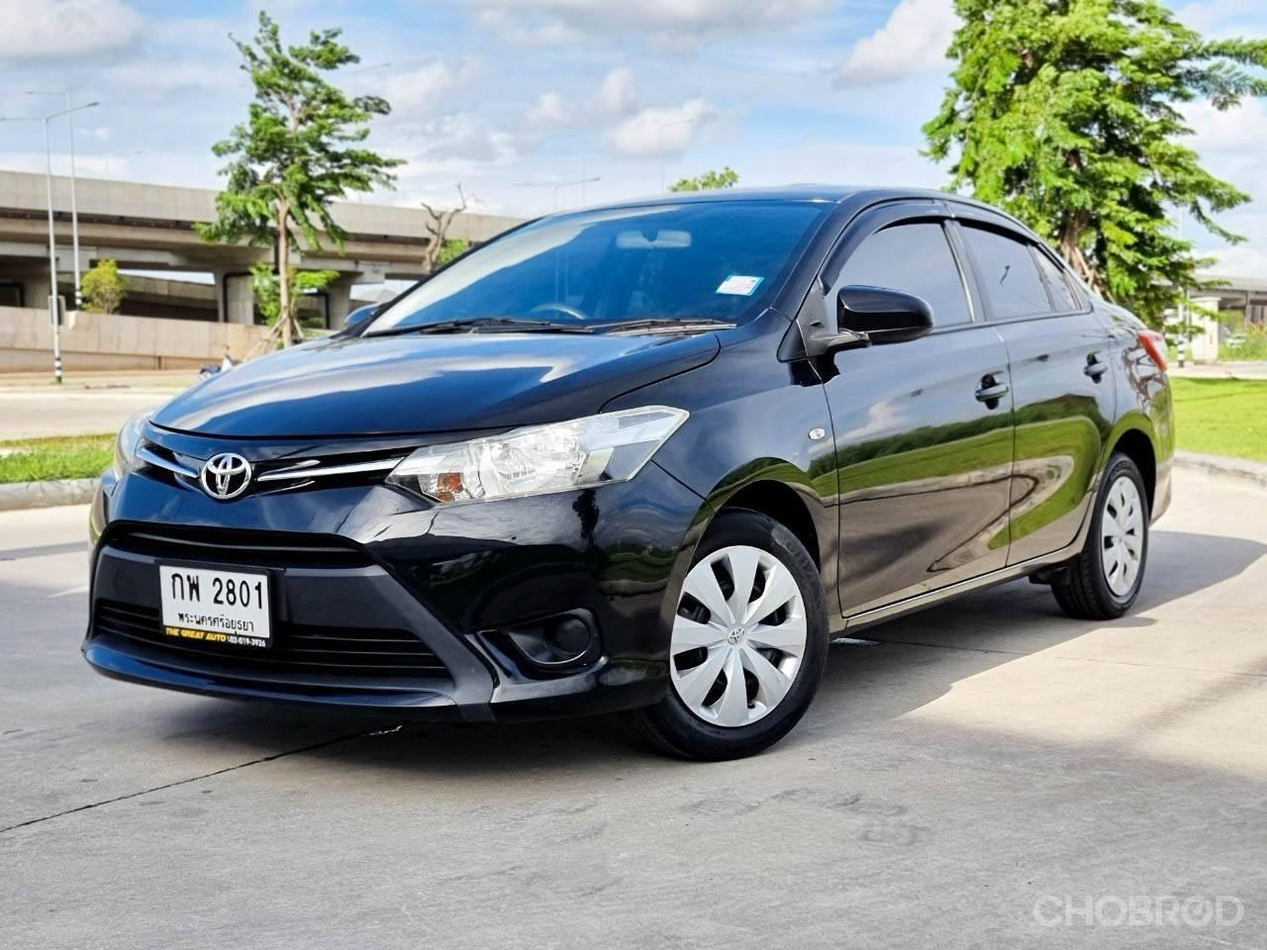license-plate: (152, 553, 284, 655)
